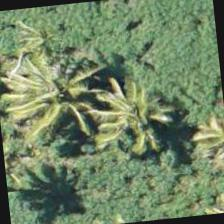Kelapa_Sawit: (9, 48, 108, 147), (101, 64, 200, 162)
